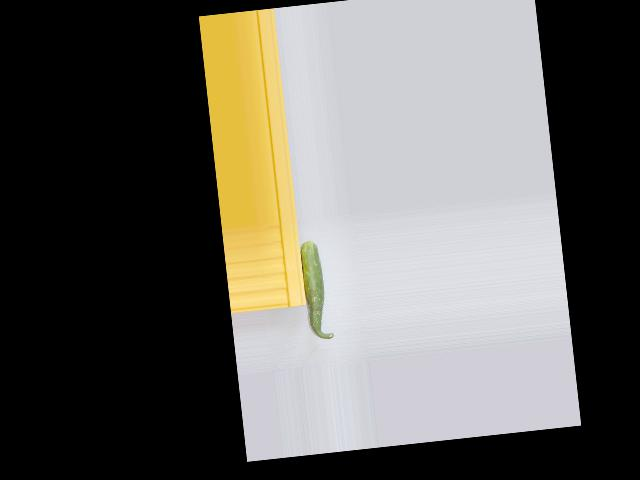cucumber: (299, 240, 334, 341)
